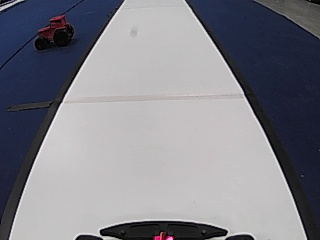tractor: (32, 10, 73, 51)
